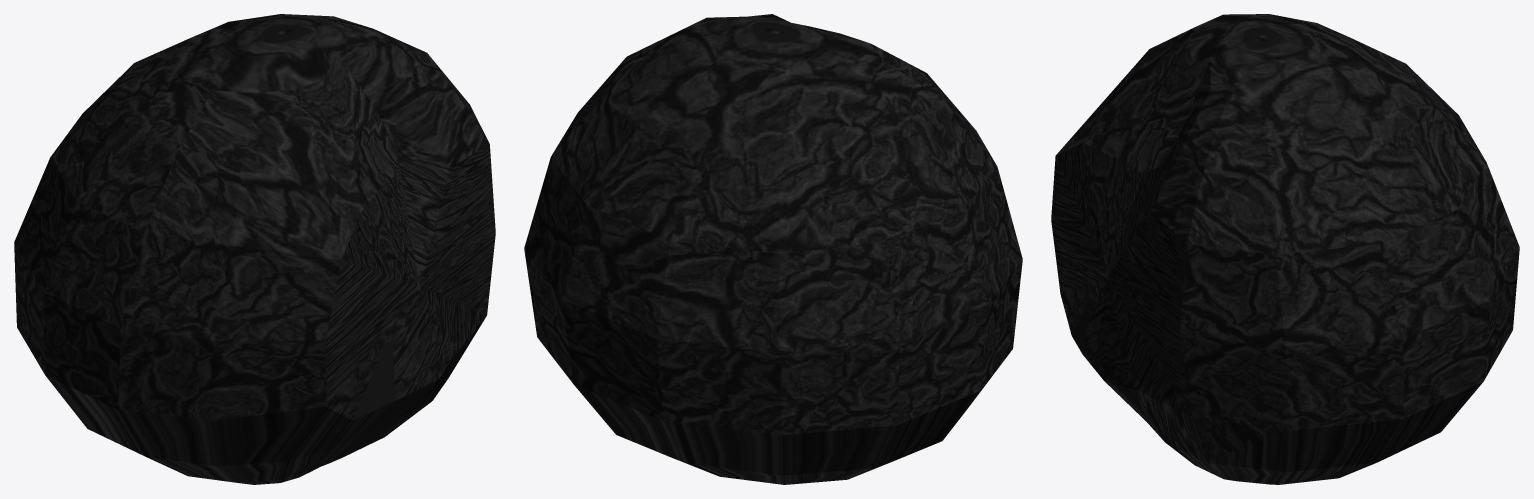
File: greenbean.fbx
The picture shows the model from 3 angles, left to right: view 1: azimuth 30°, elevation 25°; view 2: azimuth 150°, elevation 25°; view 3: azimuth 270°, elevation 25°; orthographic projection.
Visible parts, largest first — view 1: 원형; view 2: 원형; view 3: 원형.
Part boxes in pixels (left/top/right/bottom): 원형: left=14, top=14, right=495, bottom=484; 원형: left=524, top=14, right=1022, bottom=484; 원형: left=1051, top=14, right=1519, bottom=484.
Size of the model in its own units: 105 by 100 by 98.37.
1 material, 1 textured.
